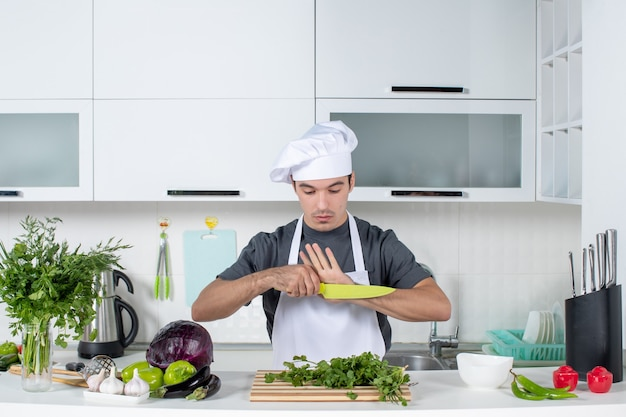knife: (321, 283, 398, 300)
